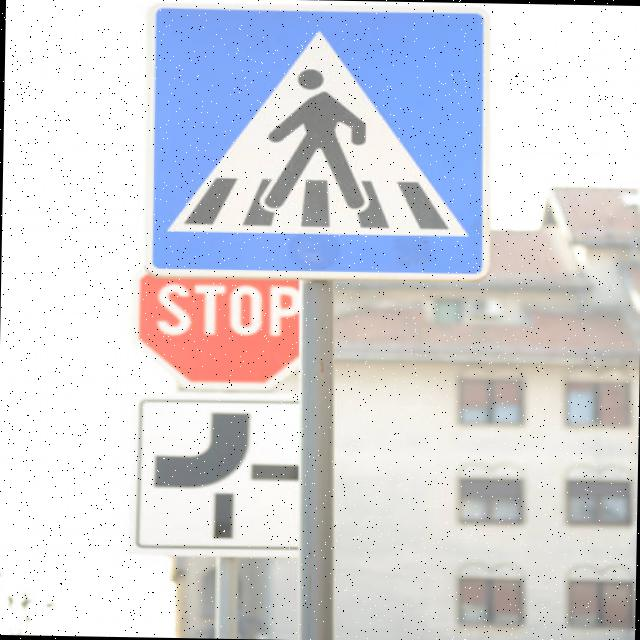crosswalk: (126, 0, 507, 287)
